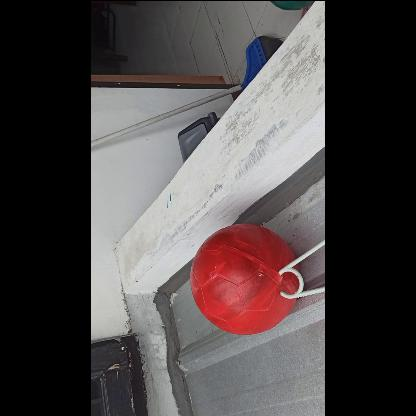red_ball: (189, 223, 299, 333)
